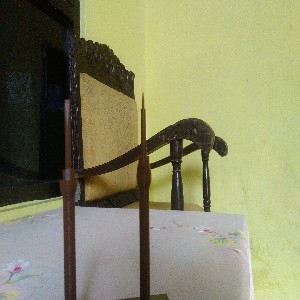obeng: (58, 99, 78, 300)
solder: (136, 90, 152, 300)
